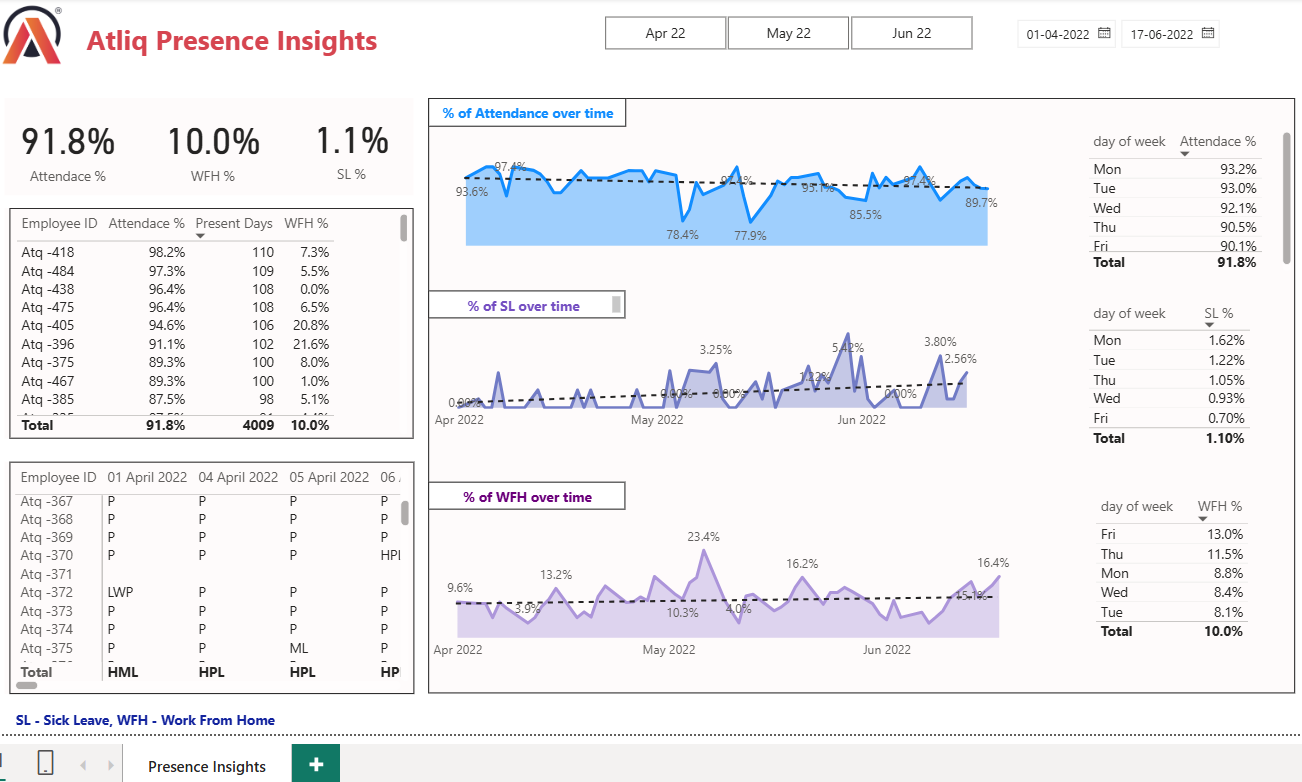

Layout of this report page (visuals, bound fields, positions):
{"tool":"powerbi","page":{"name":"Presence Insights","canvas":[1280,720],"ordinal":0},"visuals":[{"type":"textbox","box":[7.8,205.6,399.9,225.5],"z":0},{"type":"textbox","box":[7.8,453.3,399.8,227.6],"z":1000},{"type":"textbox","box":[422.3,97.9,848.1,582.3],"z":2000},{"type":"textbox","box":[7.8,98,399.9,95.4],"z":3000},{"type":"tableEx","fields":{"Values":["Final Data.Employee ID","Measures (2).Attendace %","Measures (2).Present Days","Measures (2).WFH %"]},"box":[12.6,205.2,394.9,225.7],"z":4000},{"type":"slicer","fields":{"Values":["Final Data.Date"]},"box":[985.6,11,253.1,46.5],"z":5000},{"type":"slicer","fields":{"Values":["Final Data.MMM YY"]},"box":[568.6,11,409.6,46.5],"z":6000},{"type":"areaChart","fields":{"Category":["Final Data.MMM YY","Final Data.Date"],"Y":["Measures (2).WFH %"]},"box":[420.7,502.3,589,153.5],"z":7000},{"type":"areaChart","fields":{"Category":["Final Data.WeekNo","Final Data.Date"],"Y":["Measures (2).Attendace %"]},"box":[444.1,144.9,540.4,103.2],"z":8000},{"type":"card","fields":{"Values":["Measures (2).Attendace %"]},"box":[7.8,98,124,96.3],"z":9000},{"type":"card","fields":{"Values":["Measures (2).WFH %"]},"box":[141.4,98,138.8,96.3],"z":10000},{"type":"areaChart","fields":{"Category":["Final Data.MMM YY","Final Data.Date"],"Y":["Measures (2).SL %"]},"box":[422.5,307.1,556,124],"z":11000},{"type":"image","box":[0,0,70,71],"z":12000},{"type":"card","fields":{"Values":["Measures (2).SL %"]},"box":[286.3,97.2,121.4,96.3],"z":13000},{"type":"textbox","box":[70.3,0,320.1,71.1],"z":14000},{"type":"textbox","box":[421.9,97.8,193.2,28.1],"z":15000},{"type":"textbox","box":[422.5,286.3,192.6,26.9],"z":16000},{"type":"textbox","box":[422.1,473.7,192.6,27.2],"z":17000},{"type":"pivotTable","fields":{"Rows":["Final Data.Employee ID"],"Columns":["Final Data.Date"],"Values":["Min(Final Data.Value)"]},"box":[11.7,453.3,395.9,227.6],"z":18000},{"type":"textbox","box":[13.6,691.6,289.8,28.2],"z":19000},{"type":"tableEx","fields":{"Values":["Final Data.day of week","Measures (2).Attendace %"]},"box":[1060.9,125.8,209.9,145.7],"z":20000},{"type":"tableEx","fields":{"Values":["Final Data.day of week","Measures (2).SL %"]},"box":[1060.9,294.1,191.7,167.4],"z":21000},{"type":"tableEx","fields":{"Values":["Final Data.day of week","Measures (2).WFH %"]},"box":[1068.7,483.2,170,167.4],"z":22000}]}

Visuals, with their boxes on the page's 1280x720 design canvas (x1, y1, x2, y2). These are canvas units, not pixel positions in the 1302x782 screenshot, which may show the page scaled, cropped or inside an application window:
textbox: crop(8, 206, 408, 431)
textbox: crop(8, 453, 408, 681)
textbox: crop(422, 98, 1270, 680)
textbox: crop(8, 98, 408, 193)
tableEx - Final Data.Employee ID x Measures (2).Attendace %: crop(13, 205, 408, 431)
slicer - Final Data.Date: crop(986, 11, 1239, 58)
slicer - Final Data.MMM YY: crop(569, 11, 978, 58)
areaChart - Final Data.MMM YY x Final Data.Date: crop(421, 502, 1010, 656)
areaChart - Final Data.WeekNo x Final Data.Date: crop(444, 145, 984, 248)
card - Measures (2).Attendace %: crop(8, 98, 132, 194)
card - Measures (2).WFH %: crop(141, 98, 280, 194)
areaChart - Final Data.MMM YY x Final Data.Date: crop(422, 307, 978, 431)
image: crop(0, 0, 70, 71)
card - Measures (2).SL %: crop(286, 97, 408, 194)
textbox: crop(70, 0, 390, 71)
textbox: crop(422, 98, 615, 126)
textbox: crop(422, 286, 615, 313)
textbox: crop(422, 474, 615, 501)
pivotTable - Final Data.Employee ID x Final Data.Date: crop(12, 453, 408, 681)
textbox: crop(14, 692, 303, 720)
tableEx - Final Data.day of week x Measures (2).Attendace %: crop(1061, 126, 1271, 272)
tableEx - Final Data.day of week x Measures (2).SL %: crop(1061, 294, 1253, 462)
tableEx - Final Data.day of week x Measures (2).WFH %: crop(1069, 483, 1239, 651)
